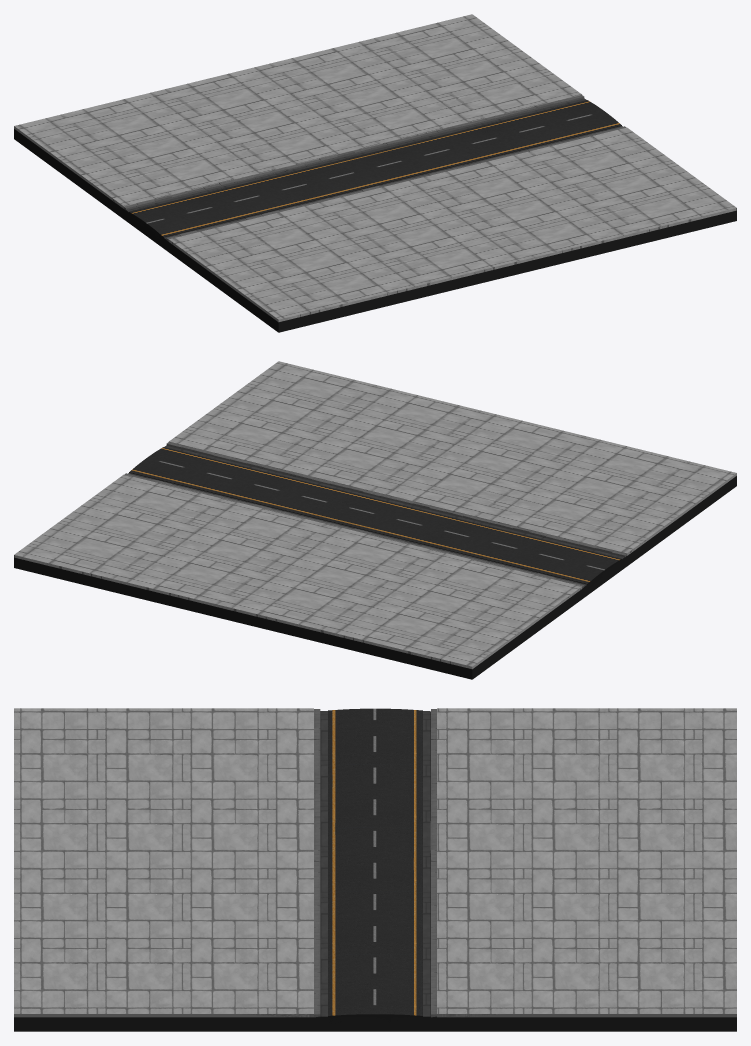
Rendered from Tile_Straight.FBX.
The picture shows the model from 3 angles, top to bottom: view 1: azimuth 30°, elevation 25°; view 2: azimuth 150°, elevation 25°; view 3: azimuth 270°, elevation 25°; orthographic projection. The views are drawn at different scales.
Visible parts, largest first — view 1: Tile_Straight; view 2: Tile_Straight; view 3: Tile_Straight.
Boxes of the visible parts, bbox=[...] form: Tile_Straight: bbox=[14, 14, 736, 332]; Tile_Straight: bbox=[14, 361, 736, 679]; Tile_Straight: bbox=[14, 708, 736, 1031].
Bounding box in the file's own units: 1811 × 50.08 × 1811.
